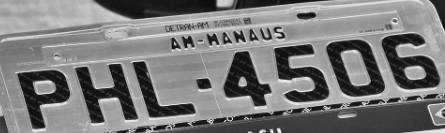placa_antiga: (0, 0, 444, 132)
